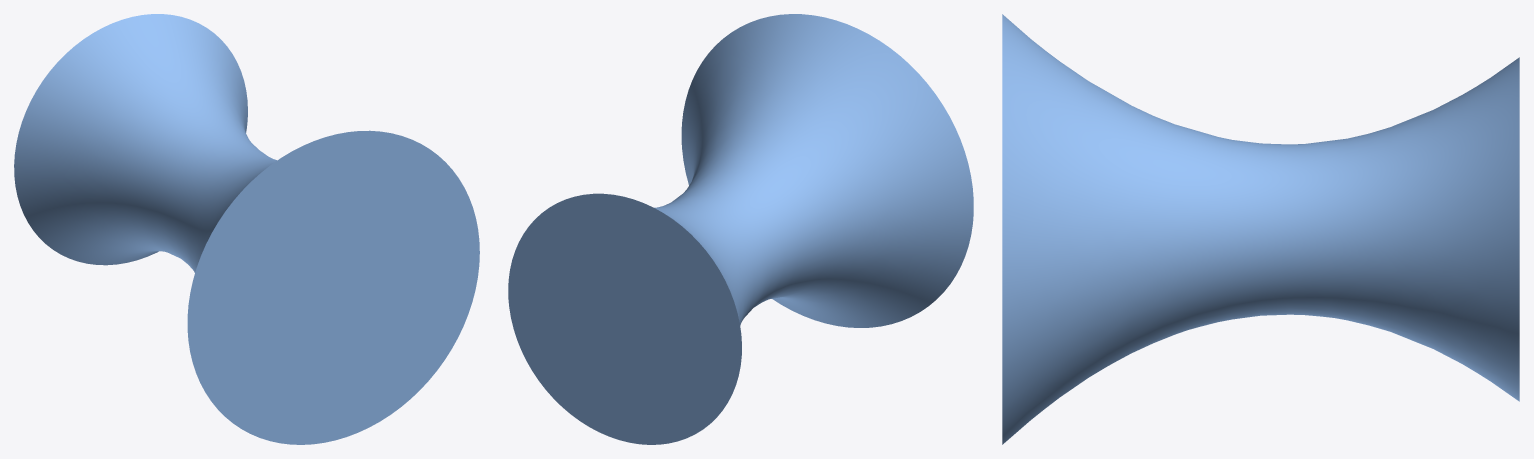
The model's file is sweep-vase.glb.
3 views of the same model, side by side, from view 1: azimuth 30°, elevation 25°; view 2: azimuth 150°, elevation 25°; view 3: azimuth 270°, elevation 25° (orthographic). The views are drawn at different scales.
Parts seen in each view (by area): view 1: SOLID; view 2: SOLID; view 3: SOLID.
Part boxes in pixels (x1,y1,x2,y2): SOLID: (14, 14, 479, 444); SOLID: (508, 14, 973, 444); SOLID: (1002, 14, 1519, 444).
Bounding box in the file's own units: 10 × 10 × 12.
